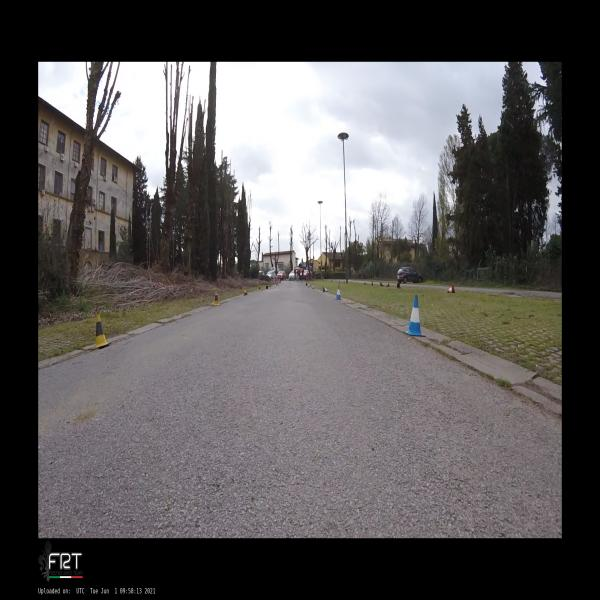blue_cone: (403, 294, 426, 337), (334, 285, 342, 300), (323, 286, 328, 292), (312, 283, 314, 289), (308, 283, 309, 288)
orange_cone: (447, 284, 455, 294)
unknown_cone: (385, 282, 390, 288), (397, 283, 401, 289), (380, 282, 384, 286), (371, 280, 373, 286), (266, 286, 268, 289)
yellow_cone: (90, 313, 112, 350), (212, 292, 221, 306), (243, 289, 247, 296), (258, 285, 262, 291)
